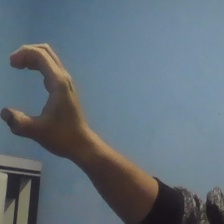C: (1, 40, 86, 166)
